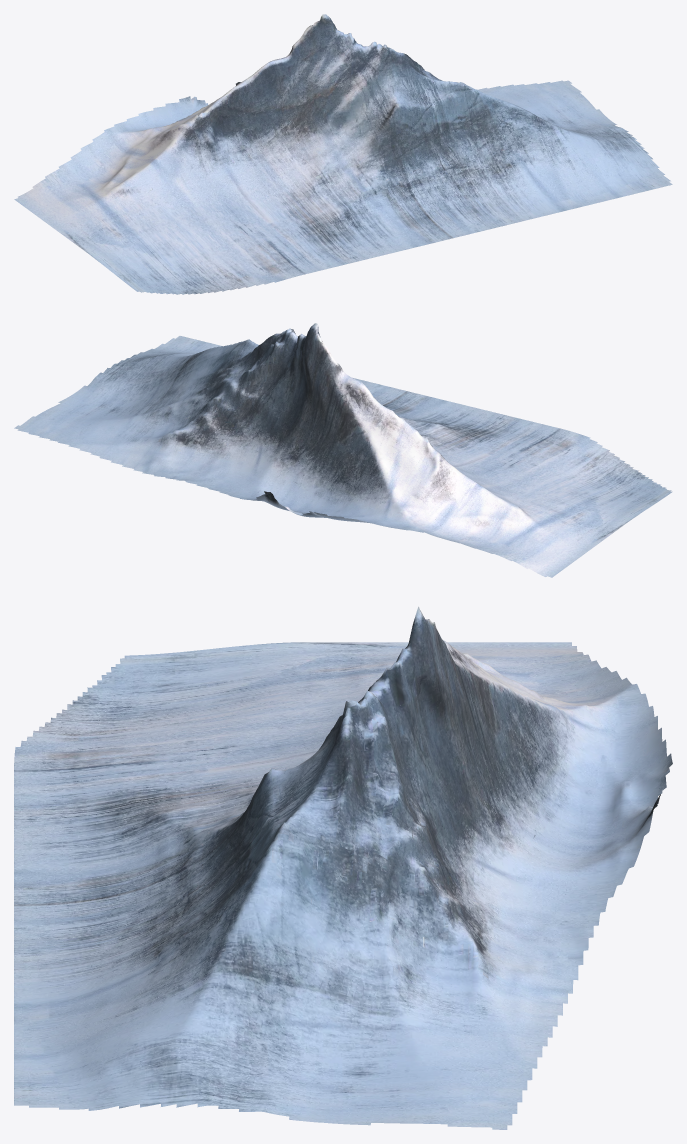
The model's file is Snow_Mountain_远景_0309.glb.
3 views of the same model, one above another, from view 1: azimuth 30°, elevation 25°; view 2: azimuth 150°, elevation 25°; view 3: azimuth 270°, elevation 25° (orthographic). The views are drawn at different scales.
Parts seen in each view (by area): view 1: Landscape; view 2: Landscape; view 3: Landscape.
Boxes of the visible parts, box(x1,y1,x2,y2) form: Landscape: box(14, 14, 672, 294); Landscape: box(14, 323, 672, 577); Landscape: box(14, 606, 672, 1129).
Bounding box in the file's own units: 1.82 × 0.515 × 1.04.
1 material, 1 textured.
